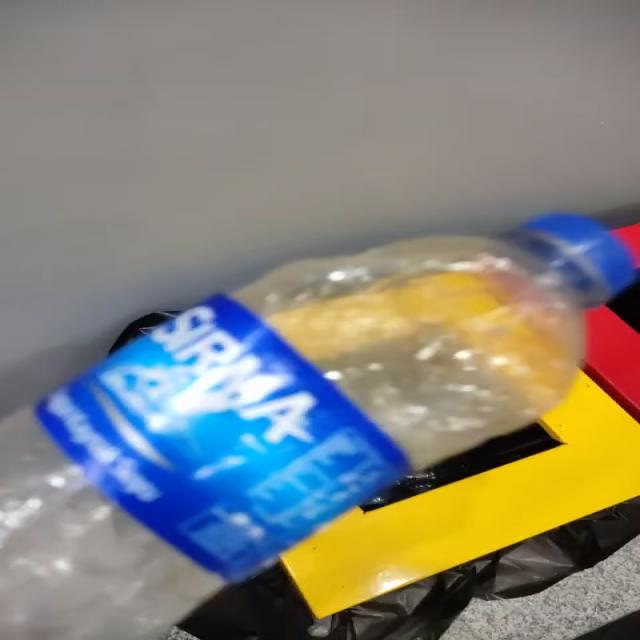plastic: (1, 214, 639, 640)
